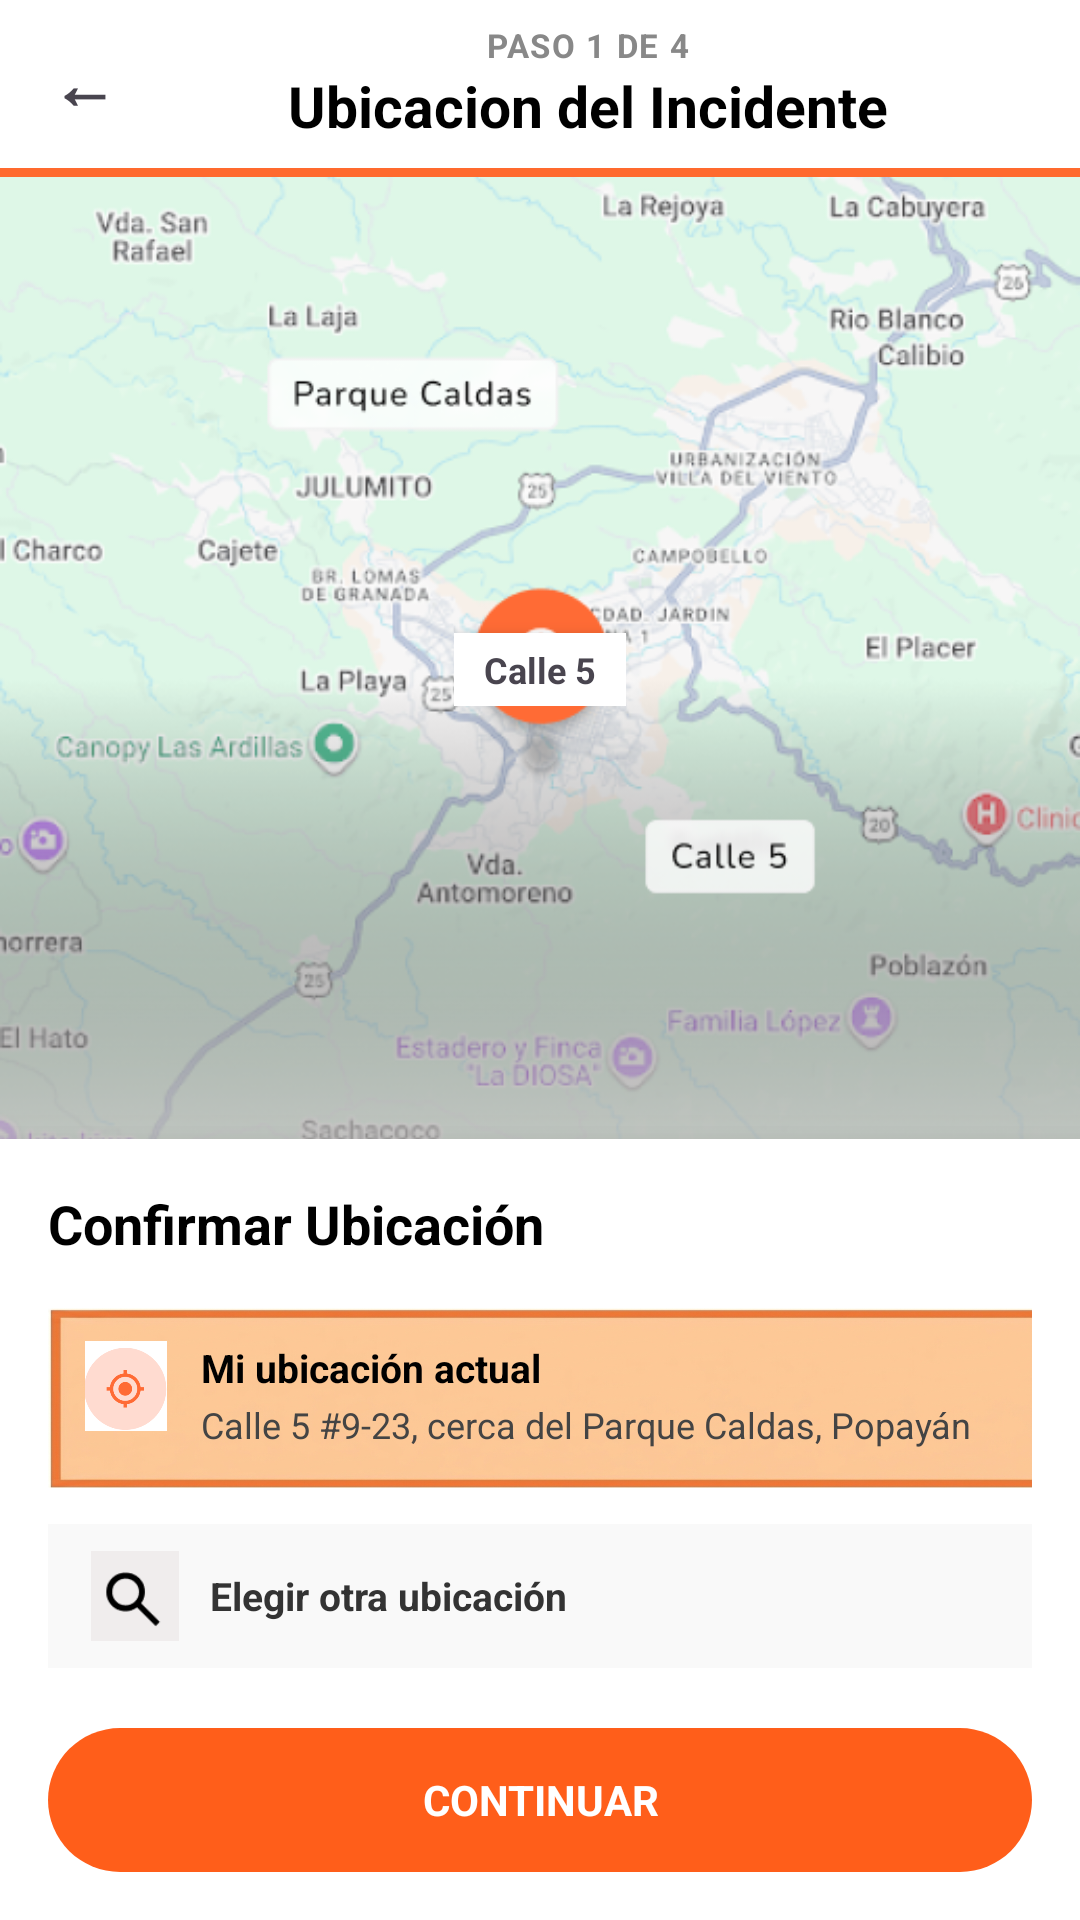

Screen size 1080*1920. Icon name, then its center in pixels as point (x, y):
busqueda: point (135, 1596)
ubicacion: point (126, 1386)
